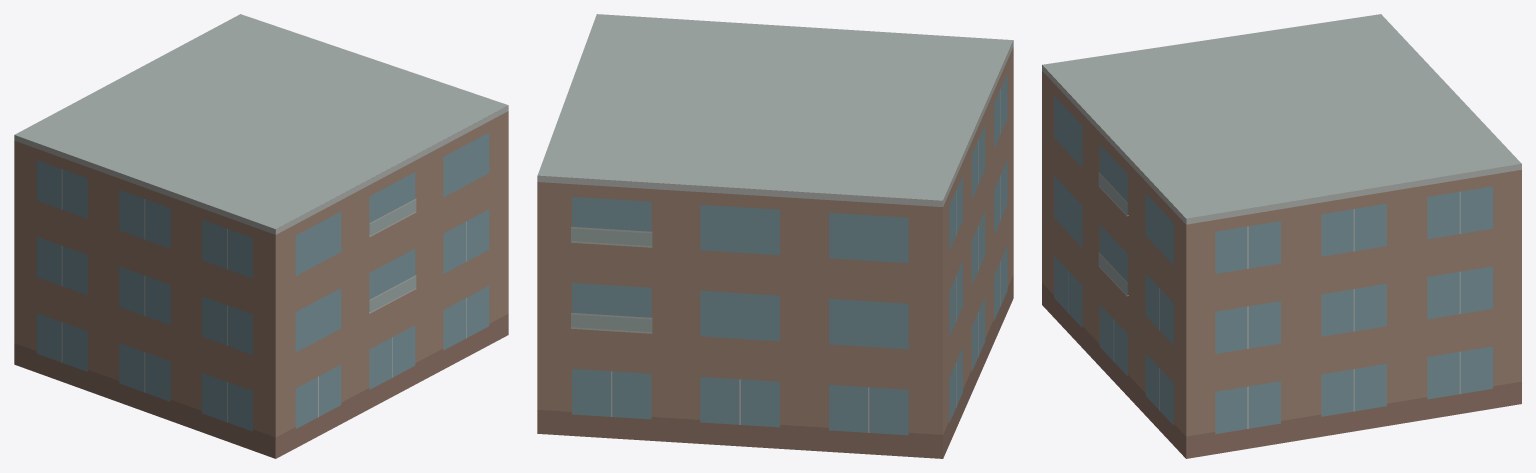
Rendered from survey-upis-32854941.glb.
3 renders of one model, left to right at view 1: azimuth 30°, elevation 25°; view 2: azimuth 150°, elevation 25°; view 3: azimuth 270°, elevation 25°, orthographic. The views are drawn at different scales.
Parts seen in each view (by area): view 1: survey-upis-32854941.tmp; view 2: survey-upis-32854941.tmp; view 3: survey-upis-32854941.tmp.
Part boxes in pixels (x1,y1,x2,y2): survey-upis-32854941.tmp: (14,14,508,458); survey-upis-32854941.tmp: (537,14,1013,458); survey-upis-32854941.tmp: (1042,14,1521,458).
Size of the model in its own units: 18.02 by 9.85 by 17.84.
